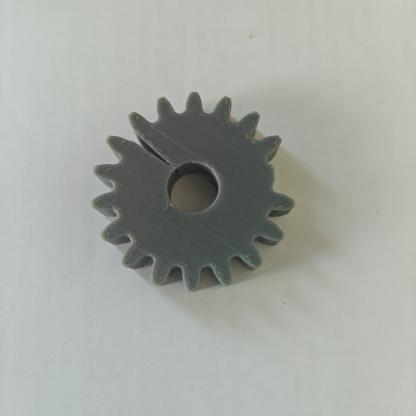defect: (100, 98, 188, 183), (236, 129, 319, 218)
gear: (78, 75, 329, 308)
